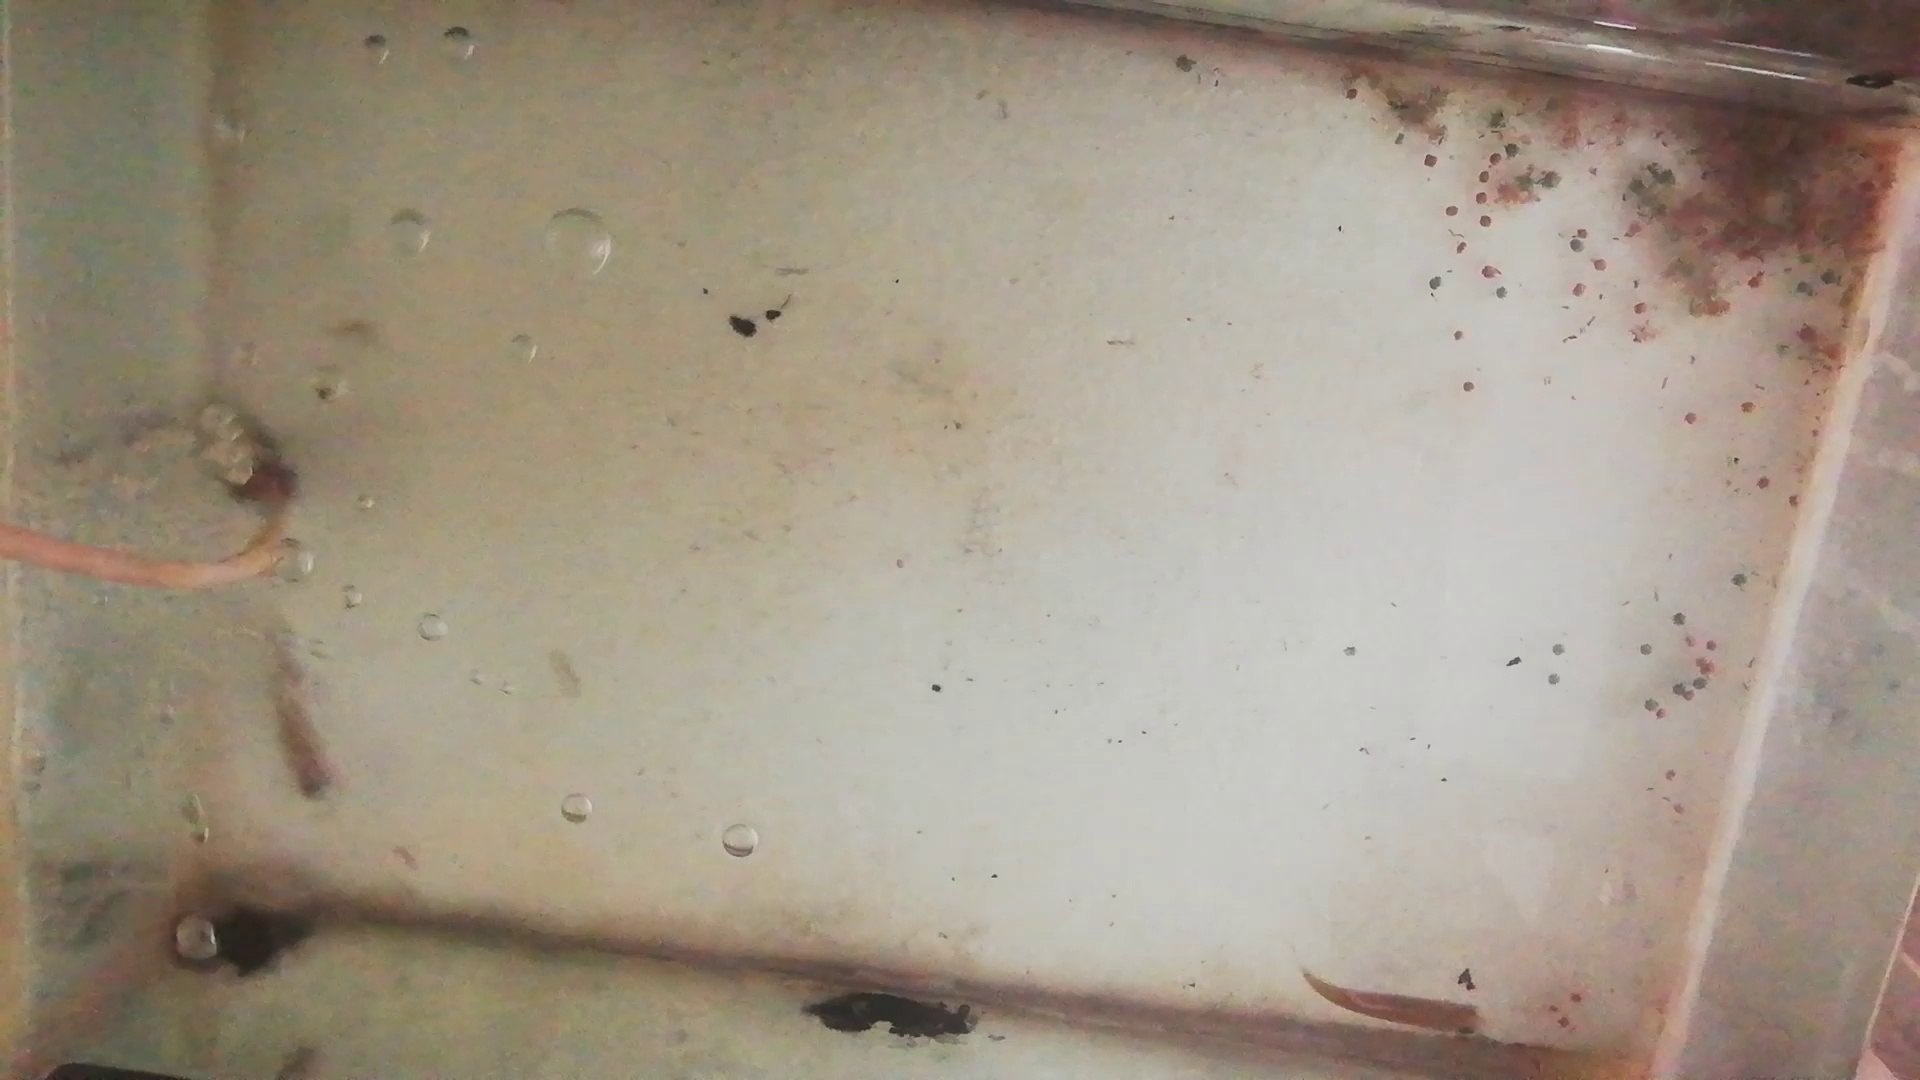fish: (269, 617, 340, 808), (1304, 971, 1490, 1036)
